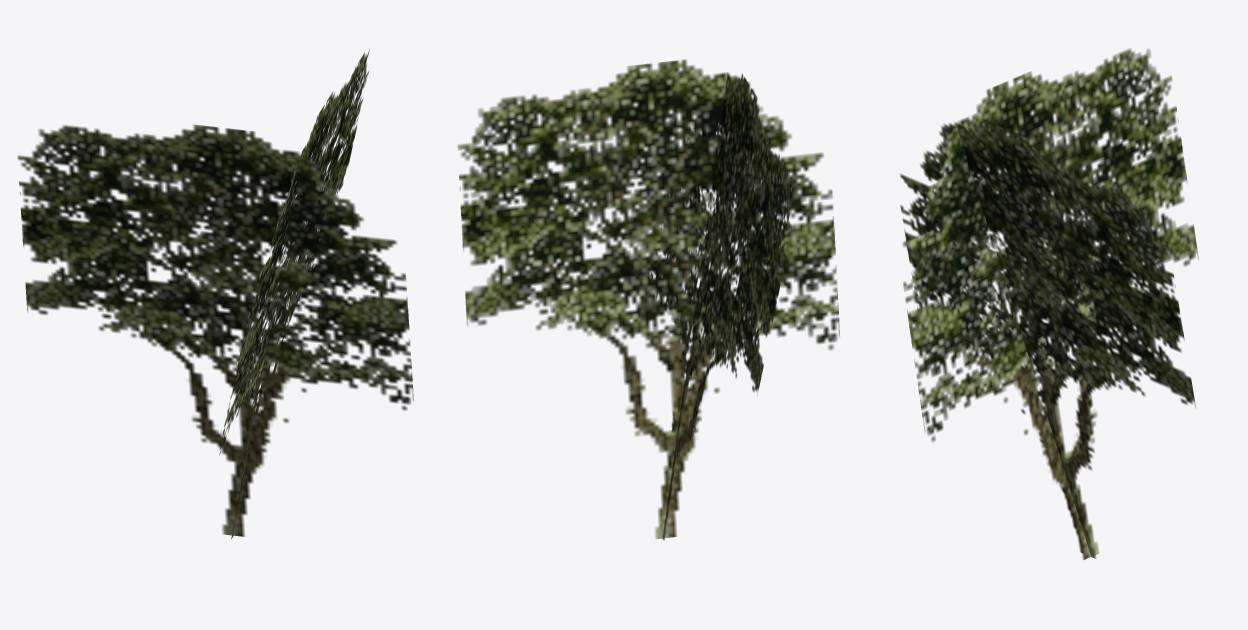
File: tree092.glb
The picture shows the model from 3 angles, left to right: view 1: azimuth 30°, elevation 25°; view 2: azimuth 150°, elevation 25°; view 3: azimuth 270°, elevation 25°; orthographic projection. The views are drawn at different scales.
Visible parts, largest first — view 1: tree092; view 2: tree092; view 3: tree092.
Boxes of the visible parts, <box> form: tree092: <box>17,49,413,539</box>; tree092: <box>457,59,839,540</box>; tree092: <box>900,48,1198,559</box>.
Size of the model in its own units: 2.78 by 3.35 by 2.32.
1 material, 1 textured.
